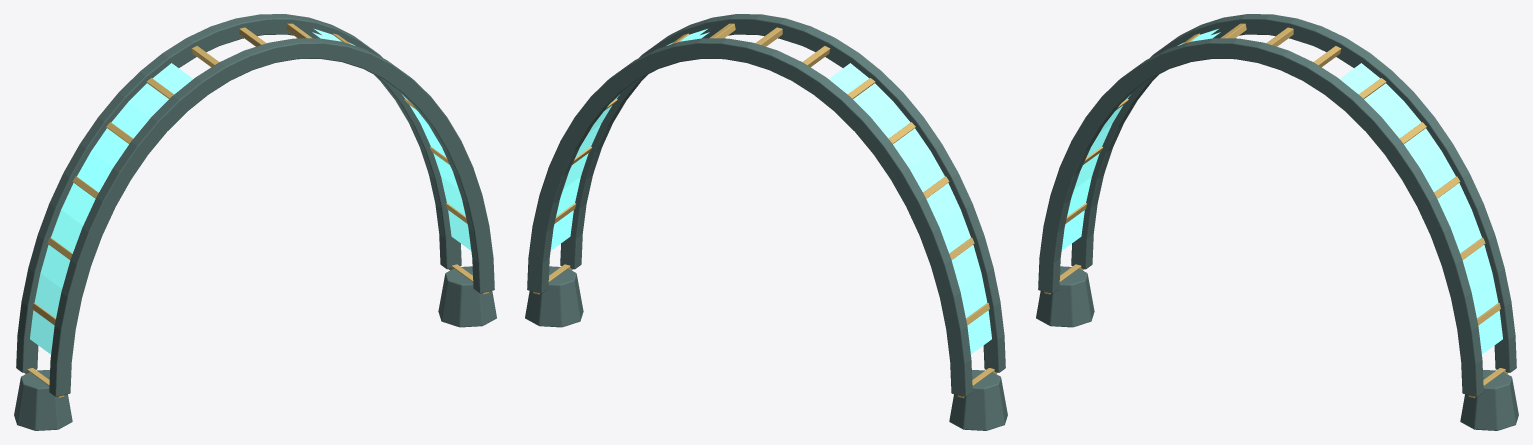
The model's file is glass_dome_rib.glb.
3 views of the same model, side by side, from view 1: azimuth 30°, elevation 25°; view 2: azimuth 150°, elevation 25°; view 3: azimuth 330°, elevation 25° (orthographic).
Visible parts, largest first — view 1: SweptRib_-1.35, SweptRib_1.35, GlassVault_R, ArchFoot-10.0, ArchFoot10.0, GlassVault_L; view 2: SweptRib_1.35, SweptRib_-1.35, GlassVault_R, ArchFoot-10.0, ArchFoot10.0, GlassVault_L; view 3: SweptRib_-1.35, SweptRib_1.35, GlassVault_L, ArchFoot10.0, ArchFoot-10.0, GlassVault_R.
Part boxes in pixels (bbox=[...]): SweptRib_-1.35: bbox=[49, 38, 494, 396]; SweptRib_1.35: bbox=[16, 14, 461, 372]; GlassVault_R: bbox=[30, 63, 192, 354]; ArchFoot-10.0: bbox=[14, 370, 72, 430]; ArchFoot10.0: bbox=[438, 266, 496, 327]; GlassVault_L: bbox=[312, 29, 471, 250]; SweptRib_1.35: bbox=[527, 38, 972, 396]; SweptRib_-1.35: bbox=[560, 14, 1005, 372]; GlassVault_R: bbox=[829, 63, 991, 354]; ArchFoot-10.0: bbox=[949, 370, 1007, 430]; ArchFoot10.0: bbox=[525, 266, 583, 327]; GlassVault_L: bbox=[550, 29, 709, 250]; SweptRib_-1.35: bbox=[1038, 38, 1483, 396]; SweptRib_1.35: bbox=[1071, 14, 1516, 372]; GlassVault_L: bbox=[1340, 63, 1502, 354]; ArchFoot10.0: bbox=[1460, 370, 1518, 430]; ArchFoot-10.0: bbox=[1036, 266, 1094, 327]; GlassVault_R: bbox=[1061, 29, 1220, 250].
Size of the model in its own units: 22.47 by 15.06 by 3.26.
